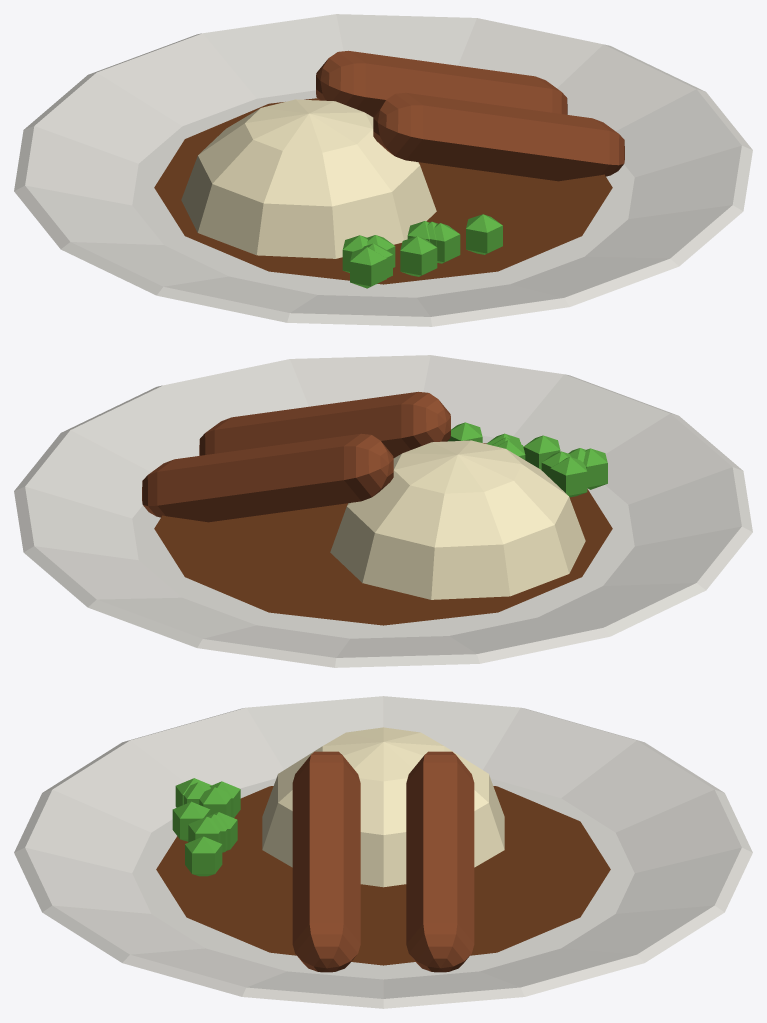
The model's file is m-sausage-mash.glb.
3 views of the same model, one above another, from view 1: azimuth 30°, elevation 25°; view 2: azimuth 150°, elevation 25°; view 3: azimuth 270°, elevation 25° (orthographic).
Parts seen in each view (by area): view 1: m_sausage_mash; view 2: m_sausage_mash; view 3: m_sausage_mash.
Part boxes in pixels (x1,y1,x2,y2): m_sausage_mash: (14,14,752,326); m_sausage_mash: (14,355,752,667); m_sausage_mash: (14,696,752,1008).
Size of the model in its own units: 0.26 by 0.0563 by 0.26.
